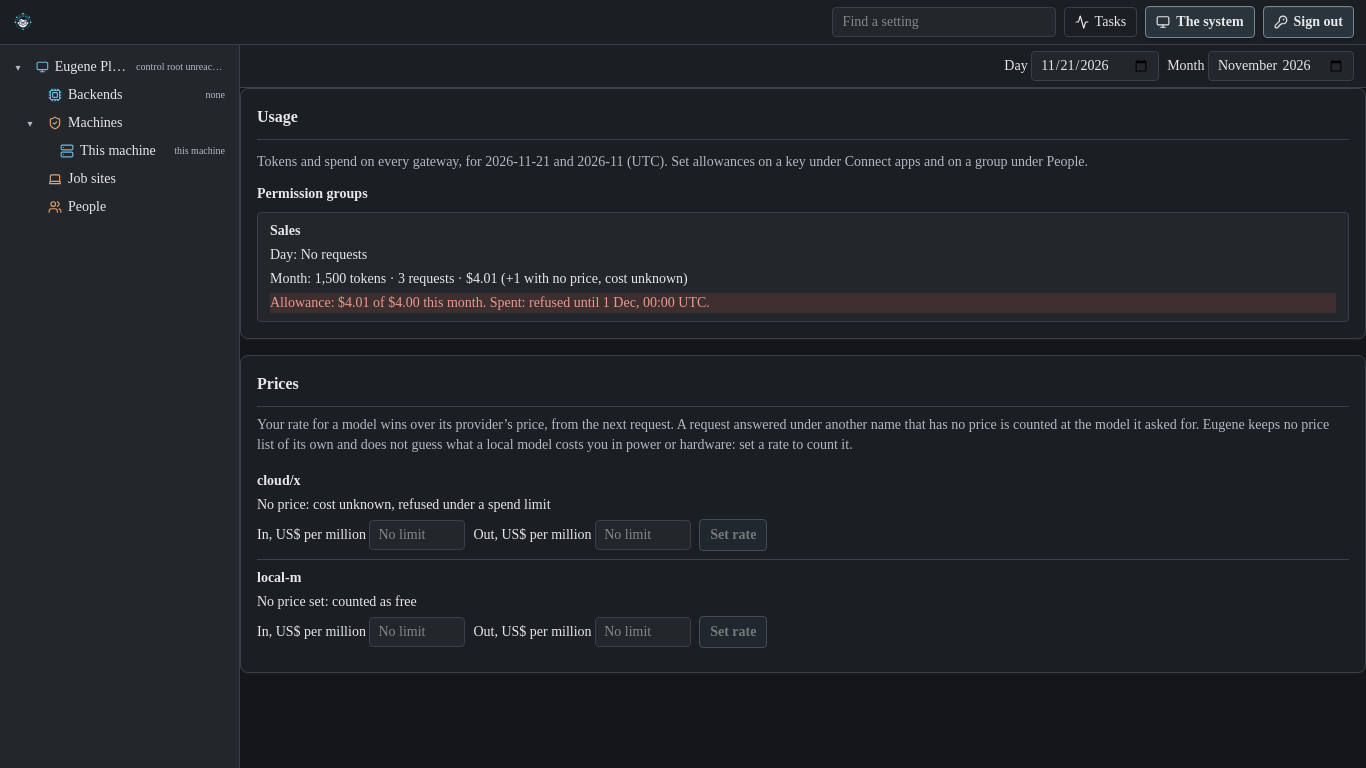
Usage page › sends an owner's rate as exact micro-dollars
Step 1. Type "0.1" into the field named "local-m input price" → (417, 632), box 369,617 -> 465,647
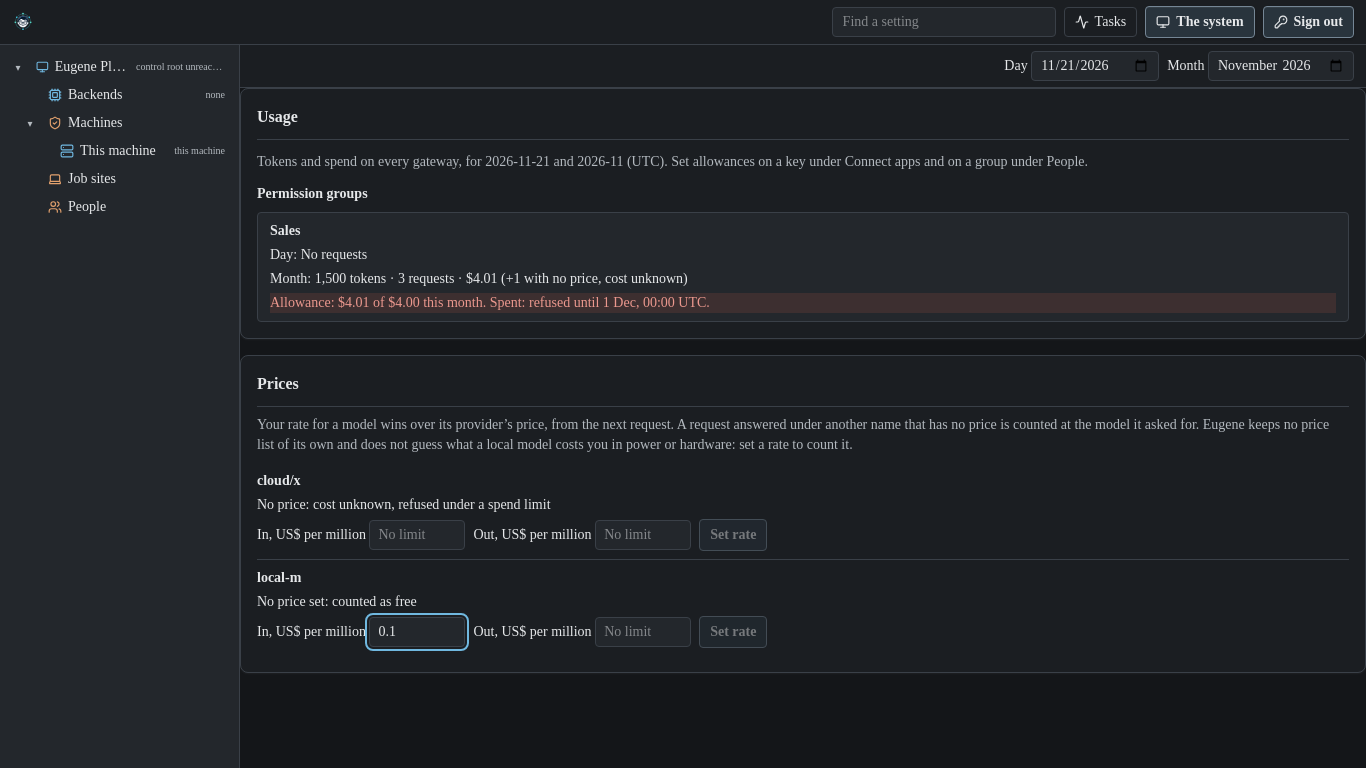
Step 2. Type "2.5" into the field named "local-m output price" → (643, 632), box 595,617 -> 691,647
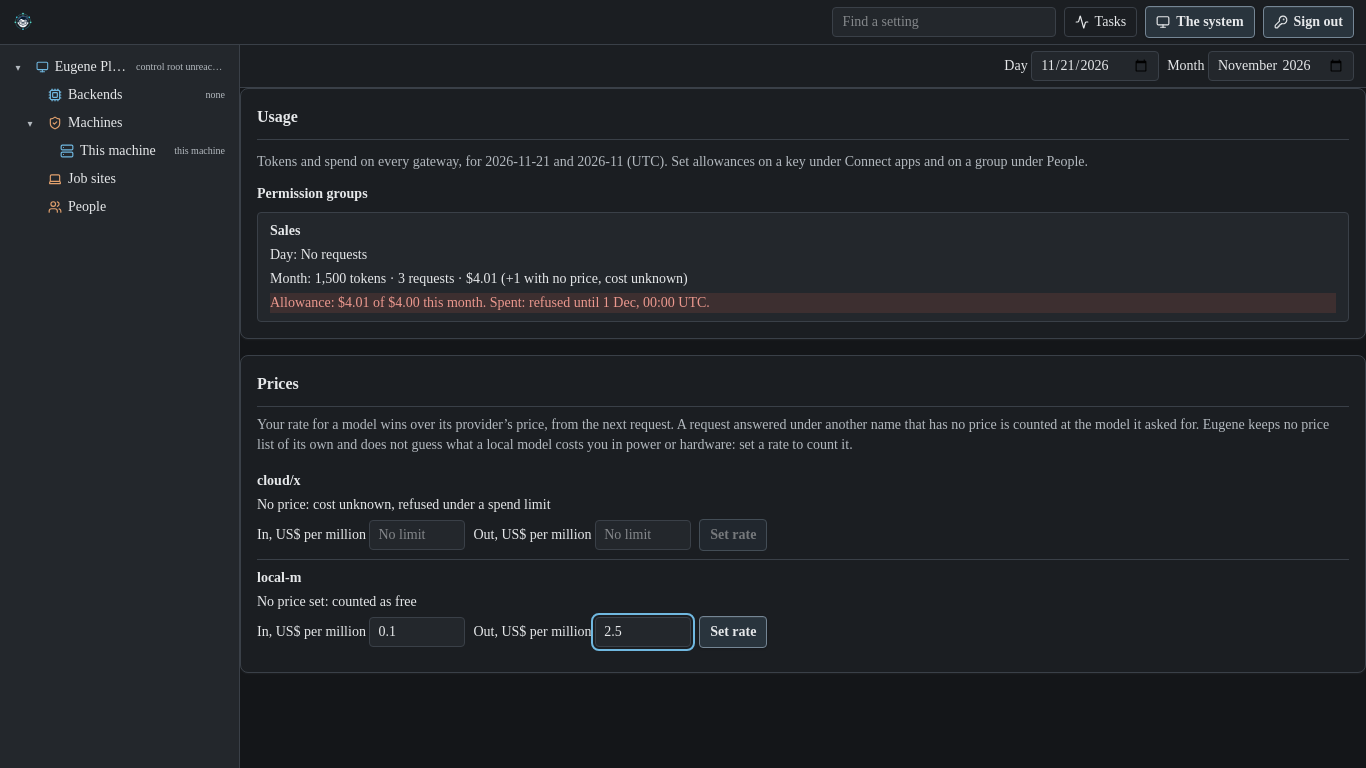
Step 3. Click the 2nd button "Set rate" → (733, 632), box 699,616 -> 767,648
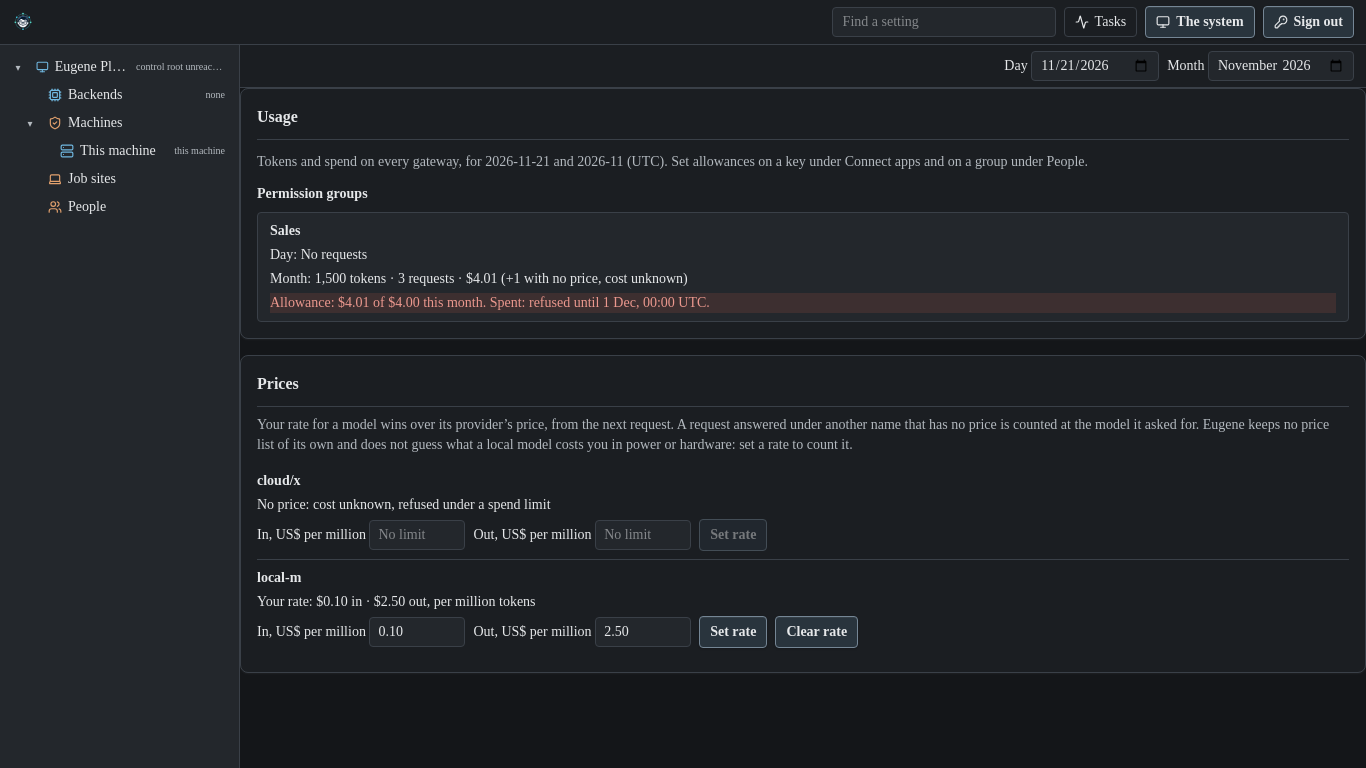
Expected: the text "Your rate: $0.10 in · $2.50 out, per million tokens" is shown, 257,594 -> 536,609
